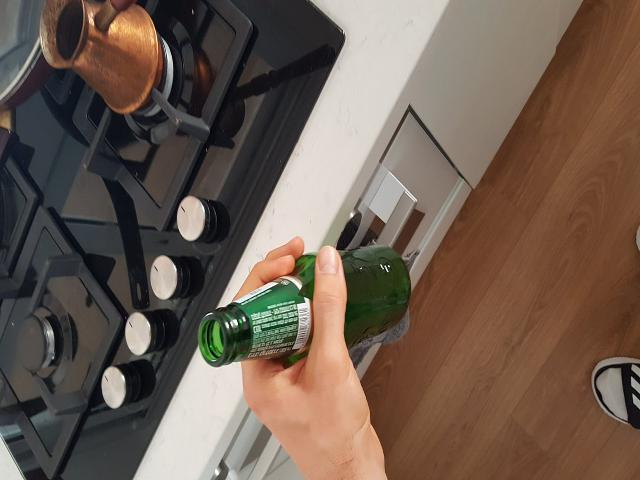beer: (197, 247, 411, 366)
